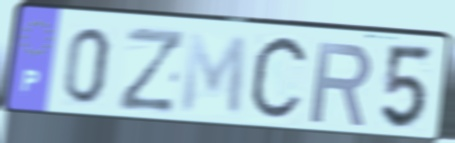0: (61, 24, 114, 110)
5: (380, 41, 437, 135)
C: (245, 31, 312, 127)
M: (178, 31, 250, 120)
R: (307, 38, 376, 128)
Z: (115, 24, 188, 115)
